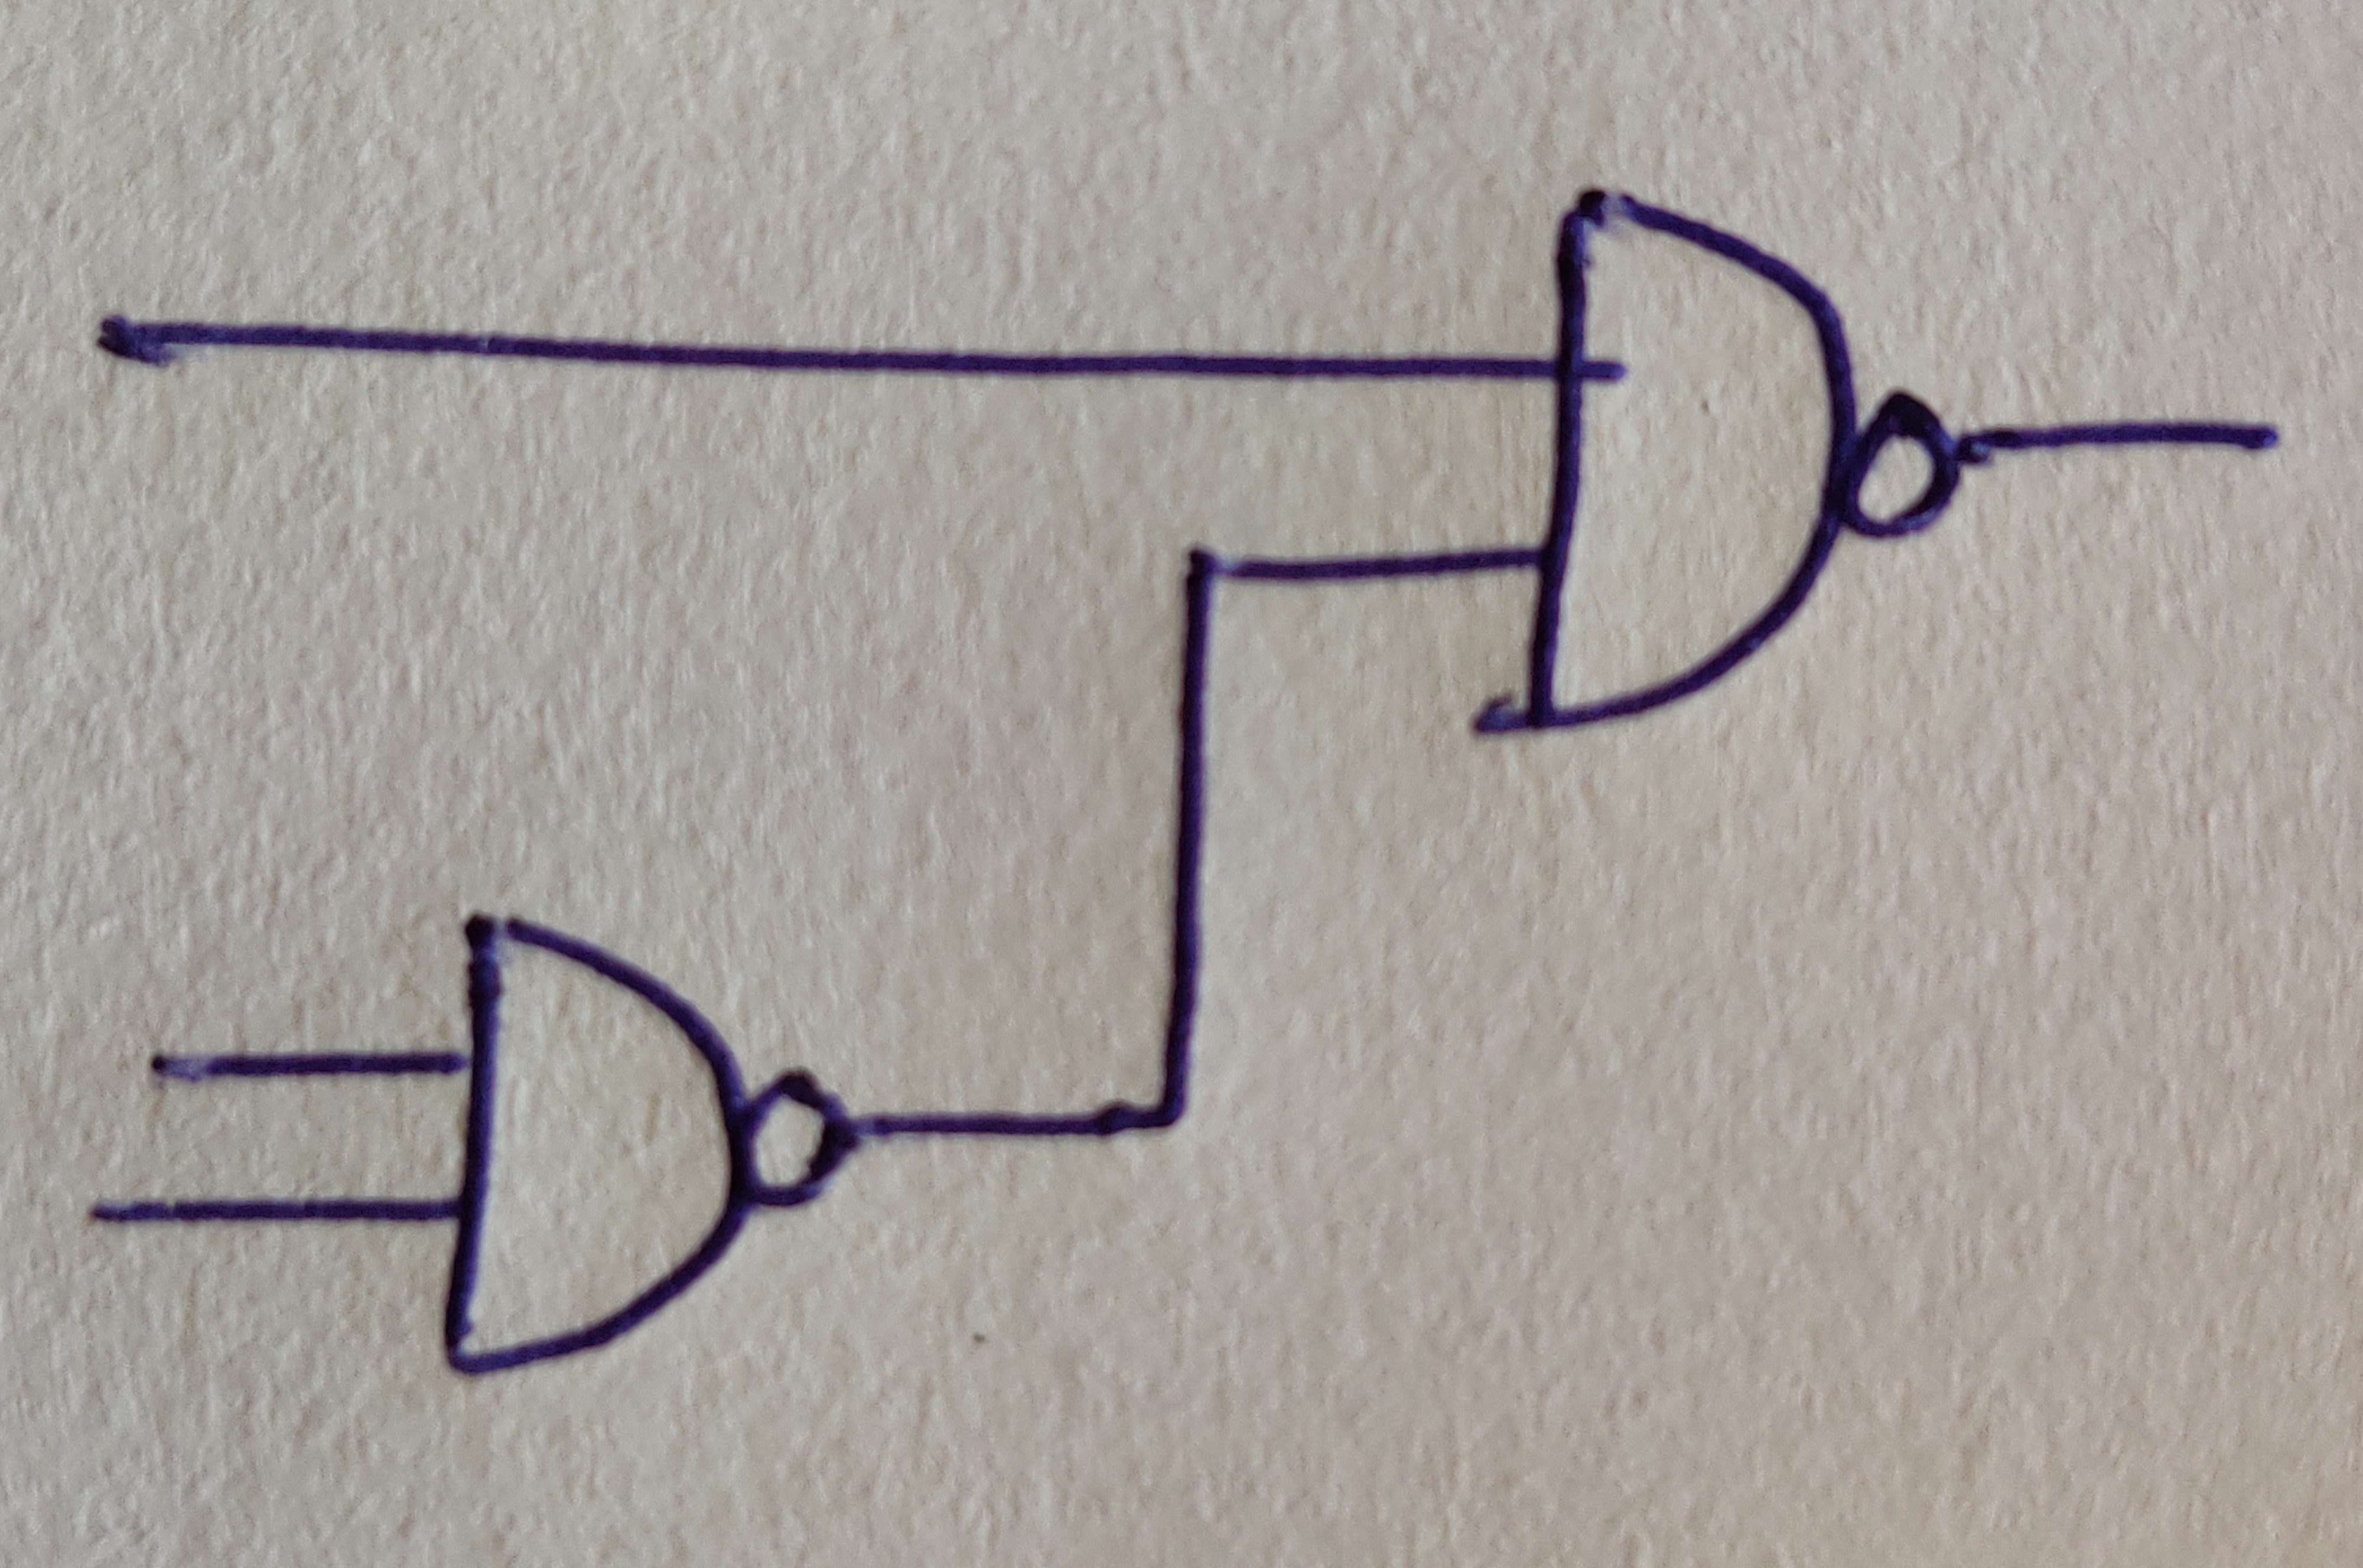and: (1477, 196, 1855, 728), (441, 915, 749, 1374)
not: (1852, 388, 1959, 535), (747, 1067, 852, 1209)
